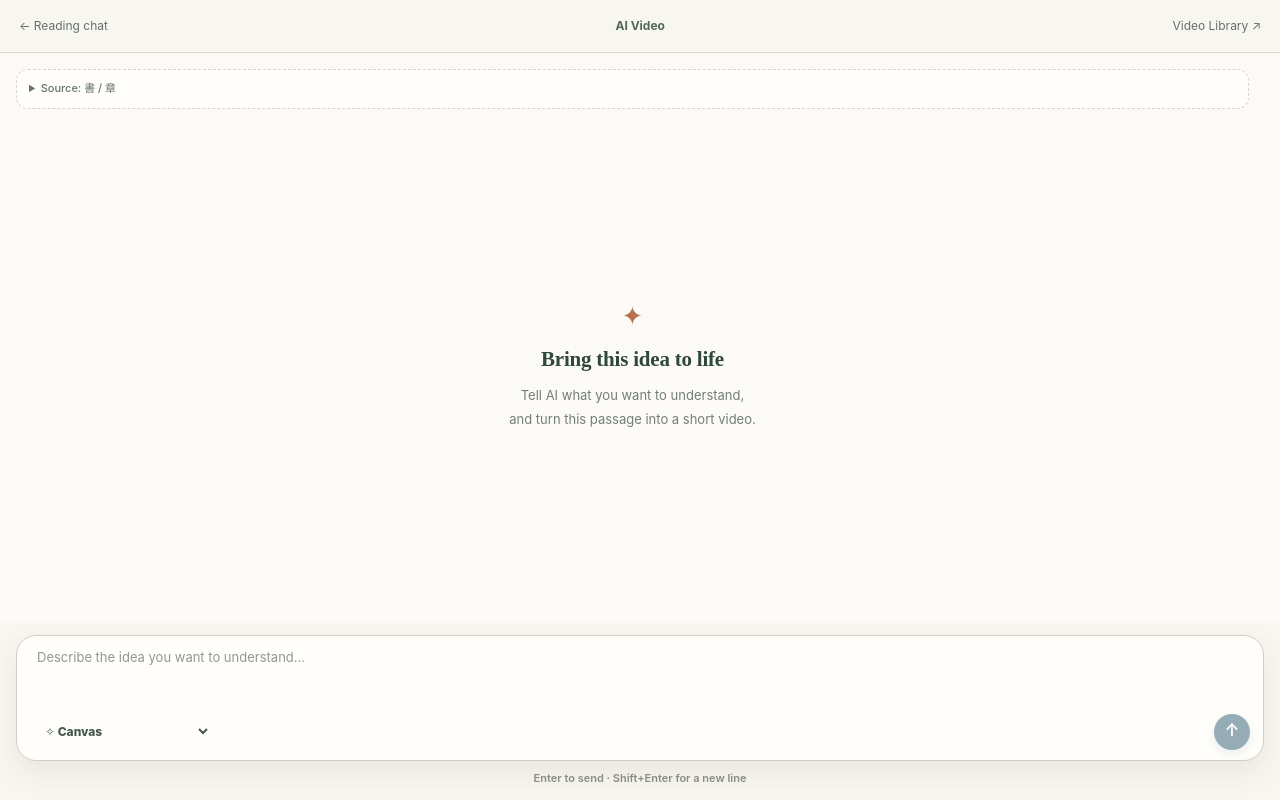
Test: selector discovery: fresh video offers all engines and explains required discussion
The width and height of the screenshot is (1280, 800).
Select "general all (test)" in the dropdown named "Animation engine" at point(123, 732), box [35,718,211,745]
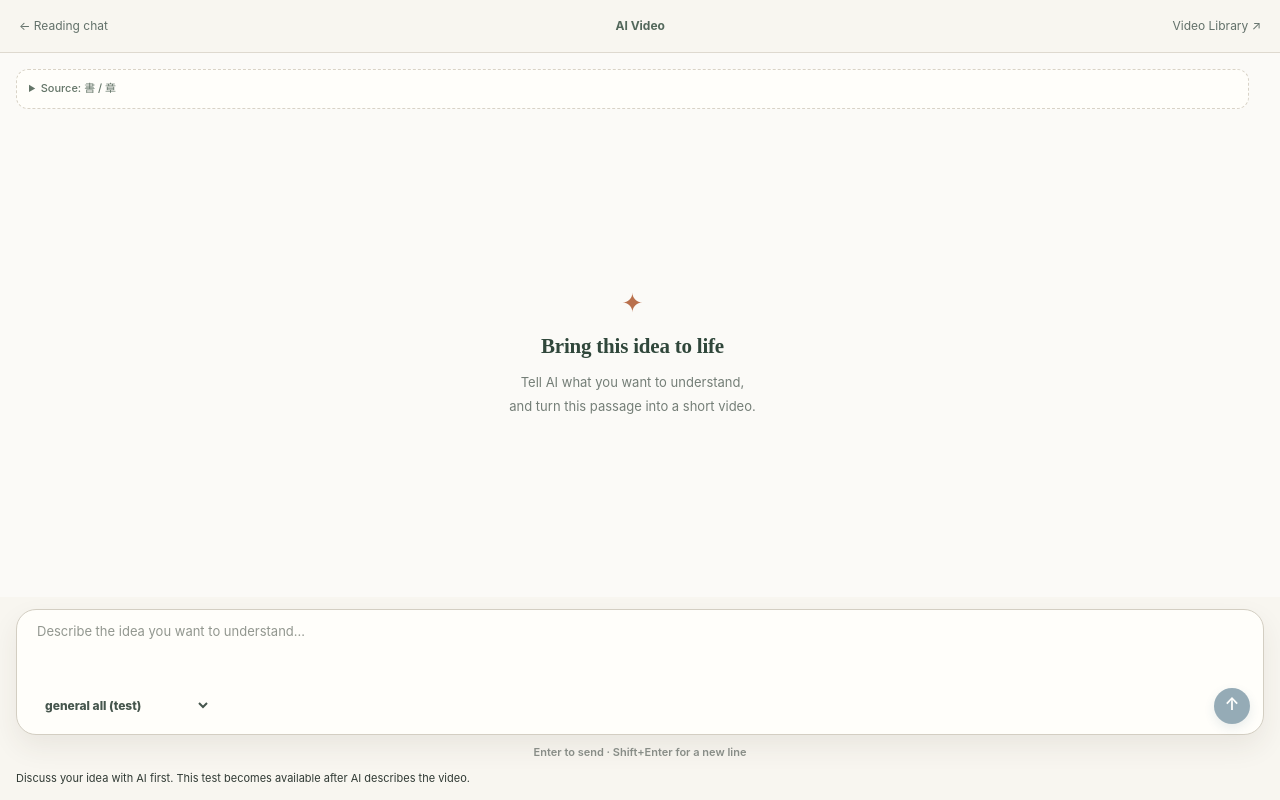
Expected: the text "Discuss your idea with AI first. This test becomes available after AI describes the video." is shown, [16,771,470,785]
